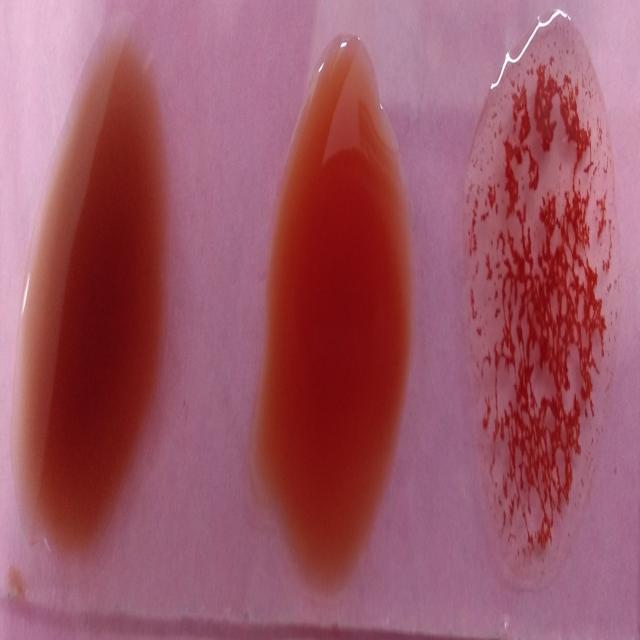D: (465, 35, 611, 594)
